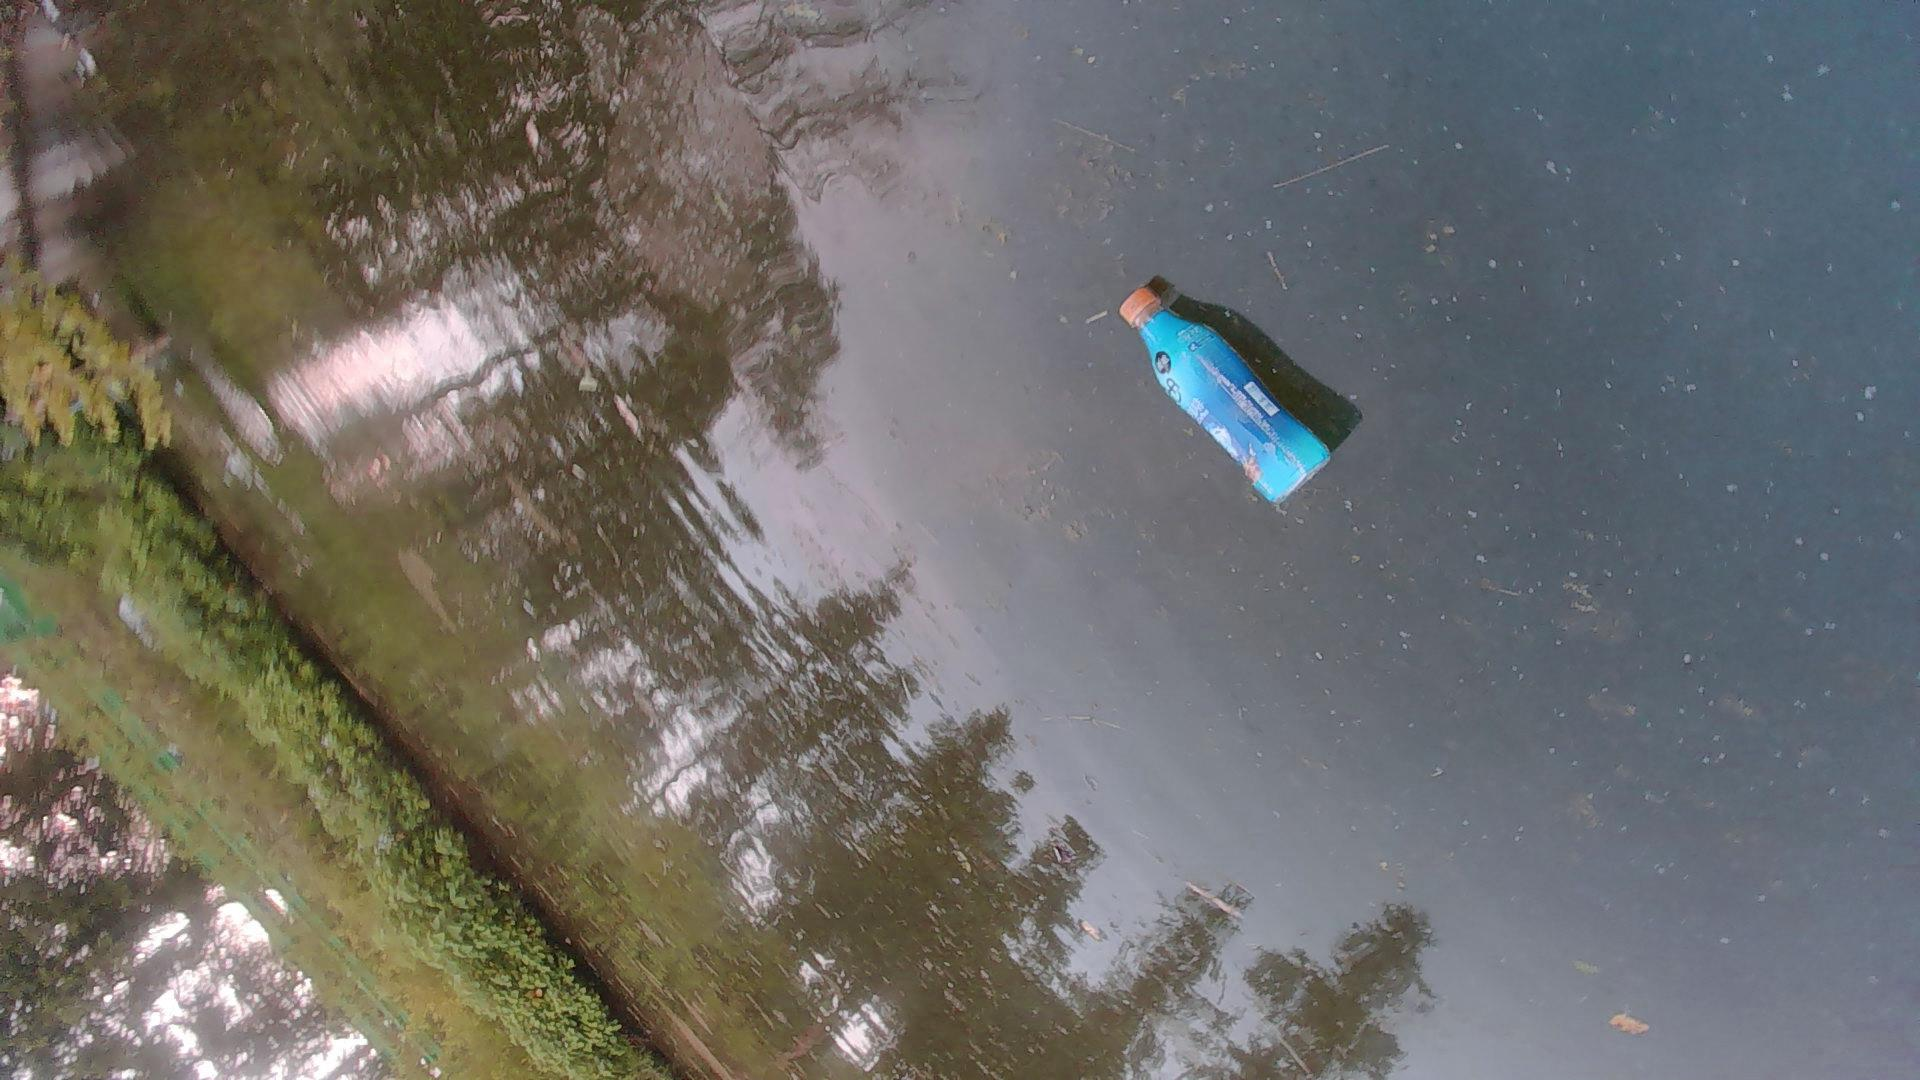Plastic: (1113, 285, 1335, 513)
